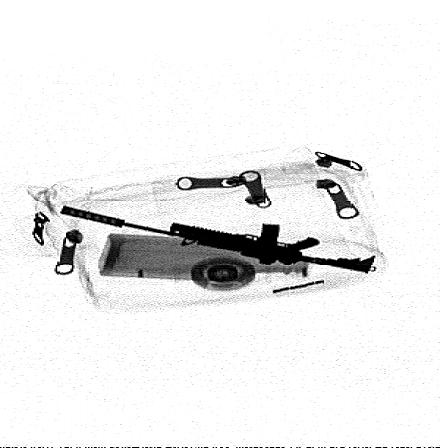Gun: (55, 204, 380, 278)
